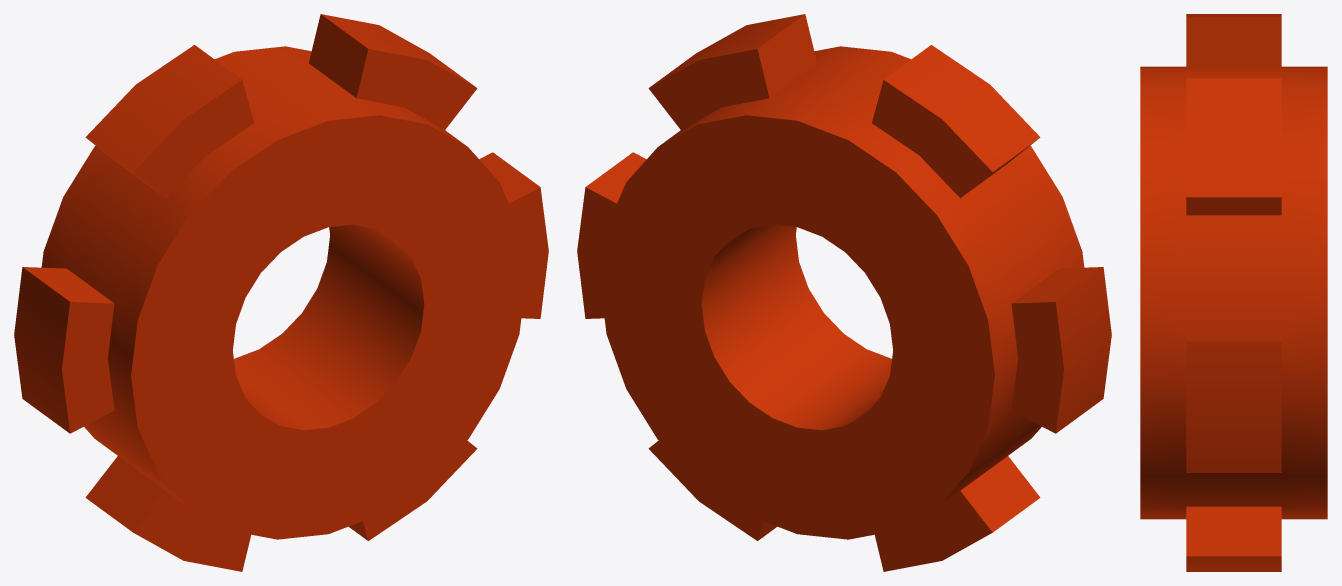
Rendered from weird_nut.obj.
The picture shows the model from 3 angles, left to right: view 1: azimuth 30°, elevation 25°; view 2: azimuth 150°, elevation 25°; view 3: azimuth 270°, elevation 25°; orthographic projection.
Visible parts, largest first — view 1: Mesh_Circle.002; view 2: Mesh_Circle.002; view 3: Mesh_Circle.002.
Part boxes in pixels (left/top/right/bottom): Mesh_Circle.002: left=14, top=14, right=548, bottom=571; Mesh_Circle.002: left=577, top=14, right=1111, bottom=571; Mesh_Circle.002: left=1140, top=14, right=1327, bottom=571.
Bounding box in the file's own units: 0.2465 × 0.2381 × 0.0826.
